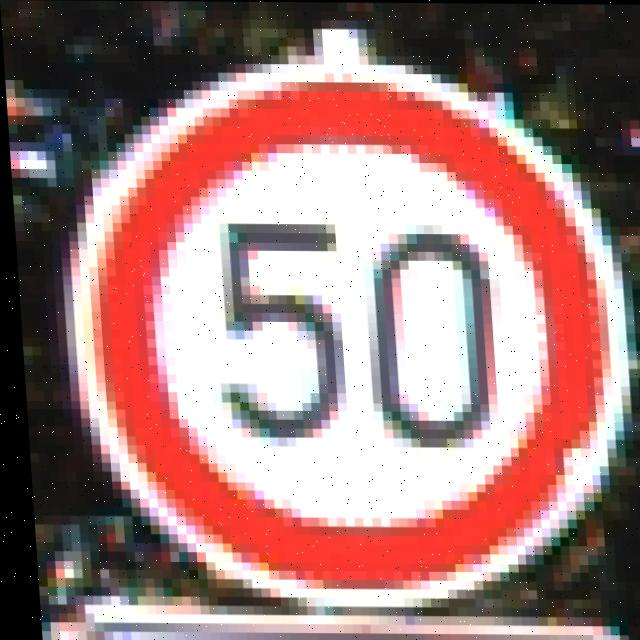speed_limit_50: (64, 72, 640, 616)
